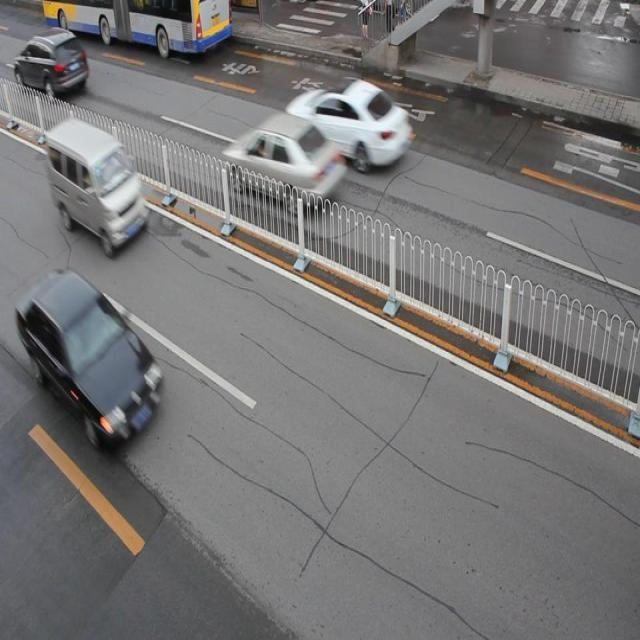car: (19, 268, 160, 442), (224, 112, 344, 215), (286, 76, 411, 172), (14, 29, 89, 99)
truck: (45, 115, 149, 252)
van: (44, 1, 232, 55)
